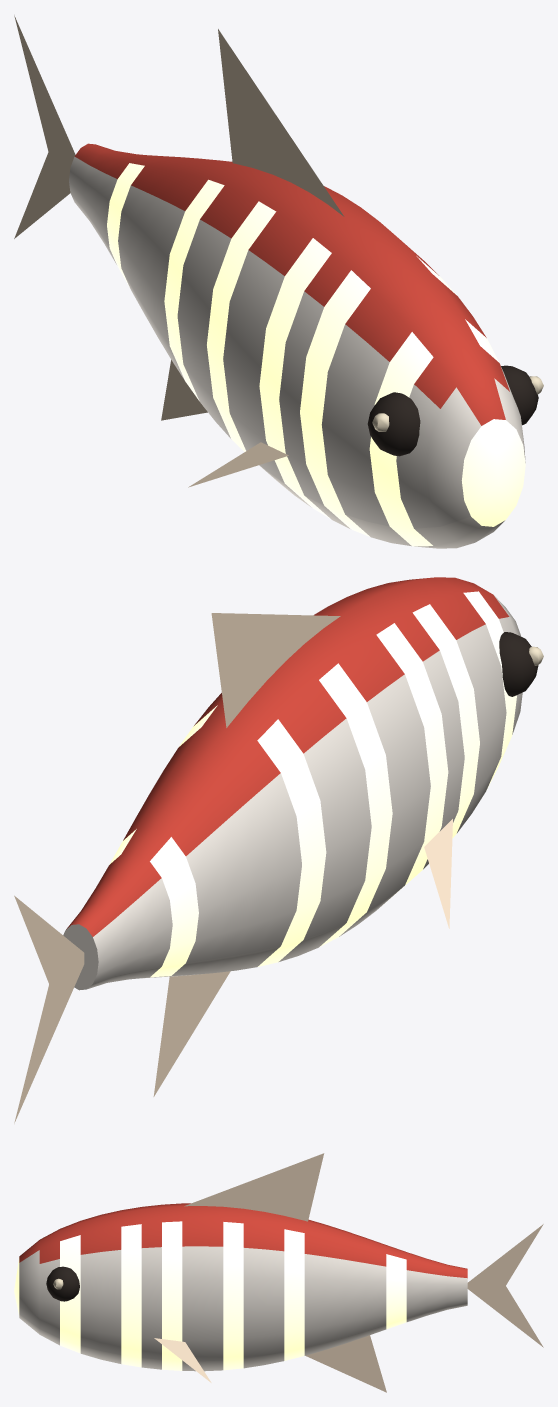
Rendered from lantern_koi.fbx.
3 renders of one model, top to bottom at view 1: azimuth 30°, elevation 25°; view 2: azimuth 150°, elevation 25°; view 3: azimuth 270°, elevation 25°, orthographic. The views are drawn at different scales.
Parts seen in each view (by area): view 1: Fish_lantern_koi_EXP; view 2: Fish_lantern_koi_EXP; view 3: Fish_lantern_koi_EXP.
Boxes of the visible parts, <box> form: Fish_lantern_koi_EXP: <box>14,15,543,548</box>; Fish_lantern_koi_EXP: <box>14,577,543,1123</box>; Fish_lantern_koi_EXP: <box>14,1153,543,1392</box>.
Size of the model in its own units: 0.2066 by 0.3245 by 0.6501.
